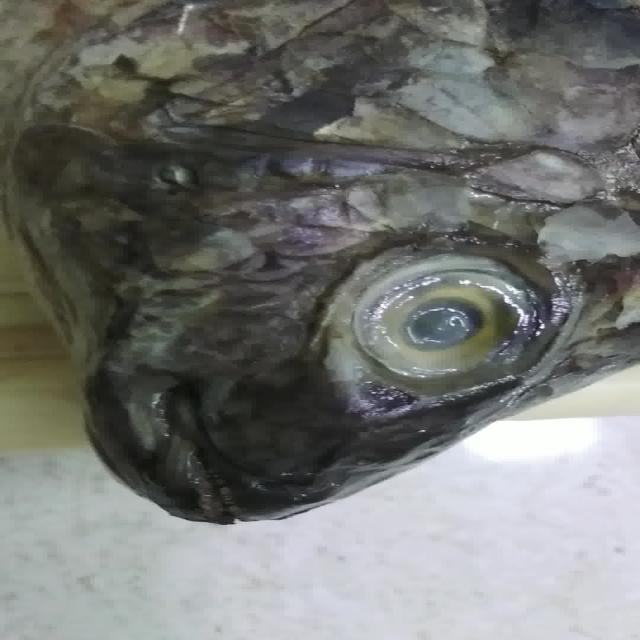Non-Fresh: (352, 246, 549, 414)
